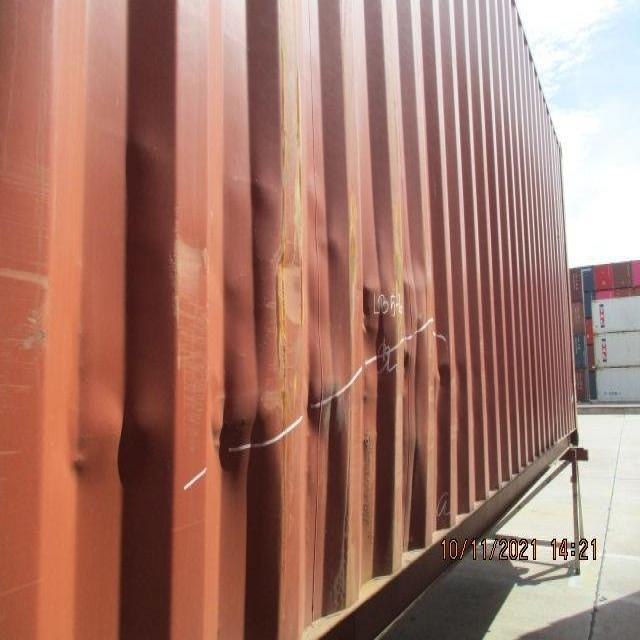Dent: (168, 207, 472, 487)
